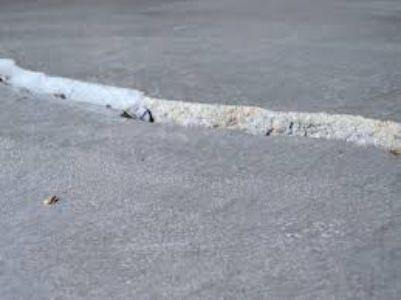pothole: (3, 55, 401, 151)
